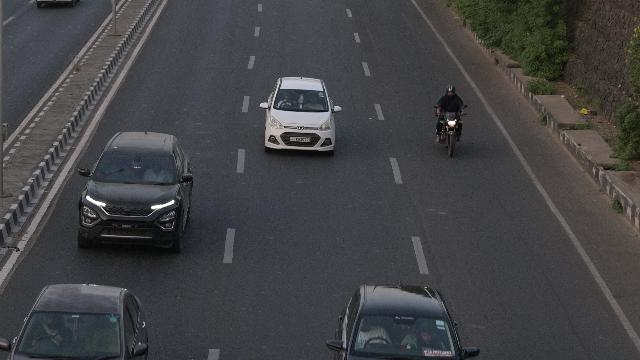With Helmet: (446, 84, 456, 100)
